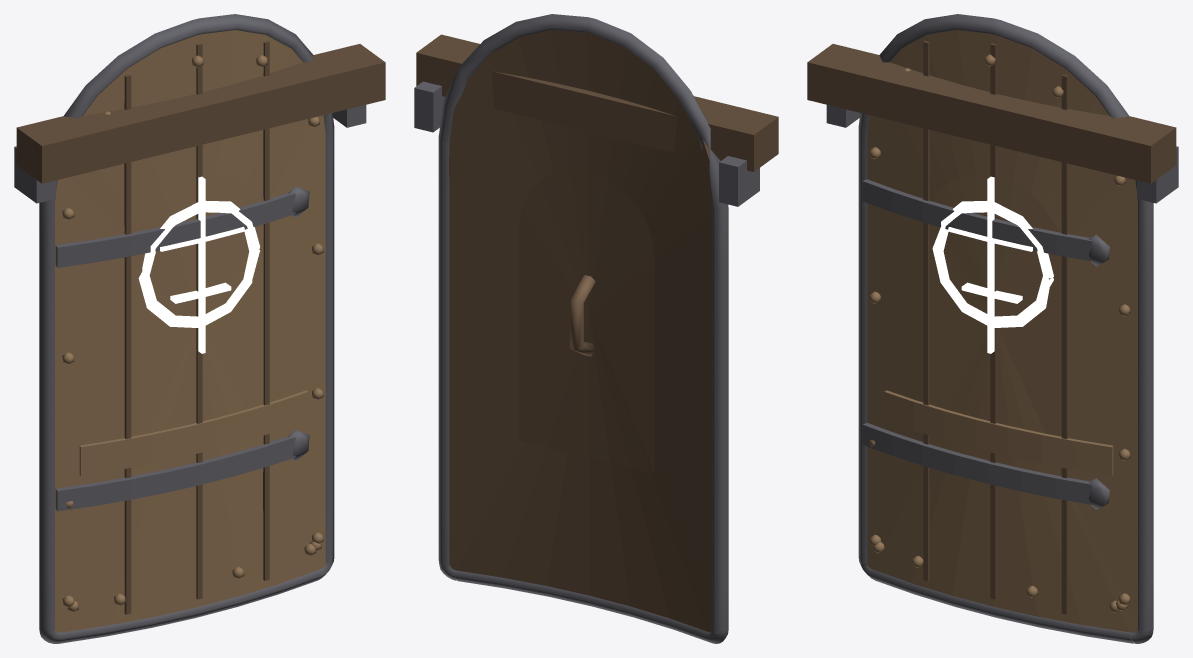
Rendered from shield-ward-bearer.glb.
3 renders of one model, left to right at view 1: azimuth 30°, elevation 25°; view 2: azimuth 150°, elevation 25°; view 3: azimuth 330°, elevation 25°, orthographic.
Visible parts, largest first — view 1: shield-ward-bearer; view 2: shield-ward-bearer; view 3: shield-ward-bearer.
Part boxes in pixels (x1,y1,x2,y2): shield-ward-bearer: (14, 14, 385, 643); shield-ward-bearer: (414, 14, 778, 643); shield-ward-bearer: (807, 14, 1178, 643).
Size of the model in its own units: 1.12 by 1.86 by 0.2068.
